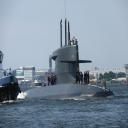submarine: (22, 45, 119, 101)
